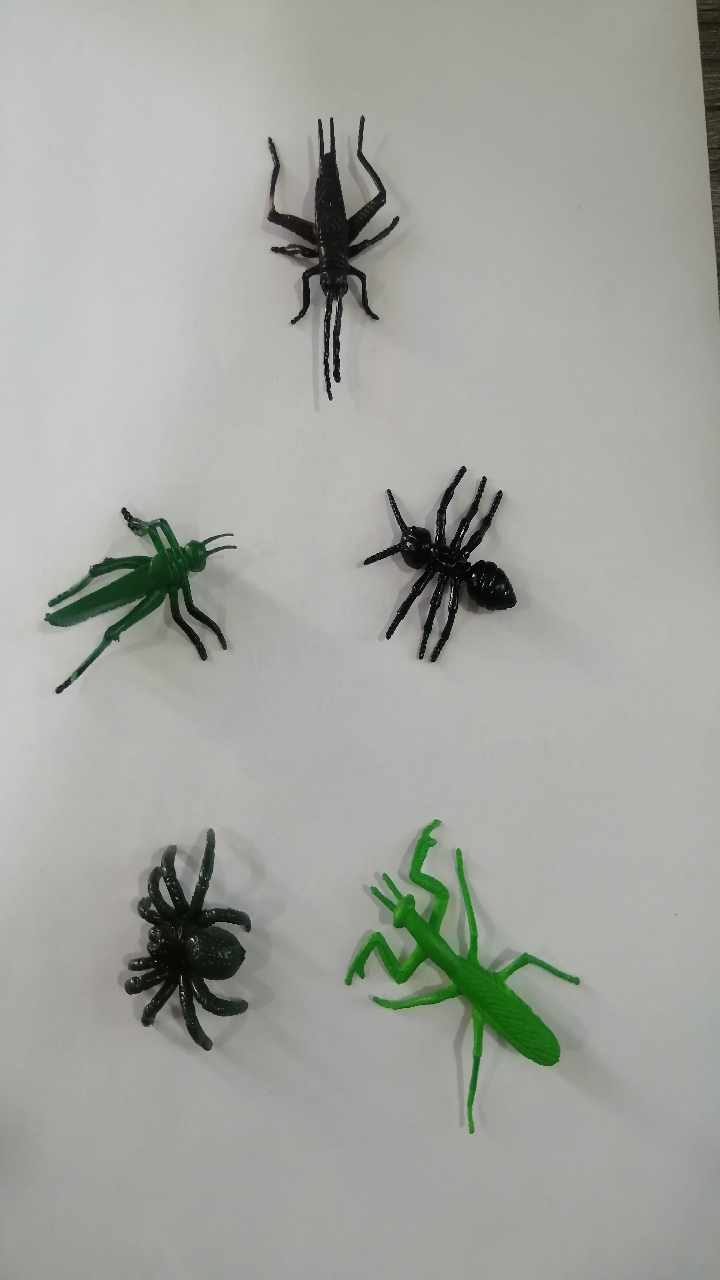intruso: (309, 795, 597, 1159), (81, 797, 294, 1091), (9, 477, 258, 715), (238, 91, 415, 412), (332, 426, 548, 685)
